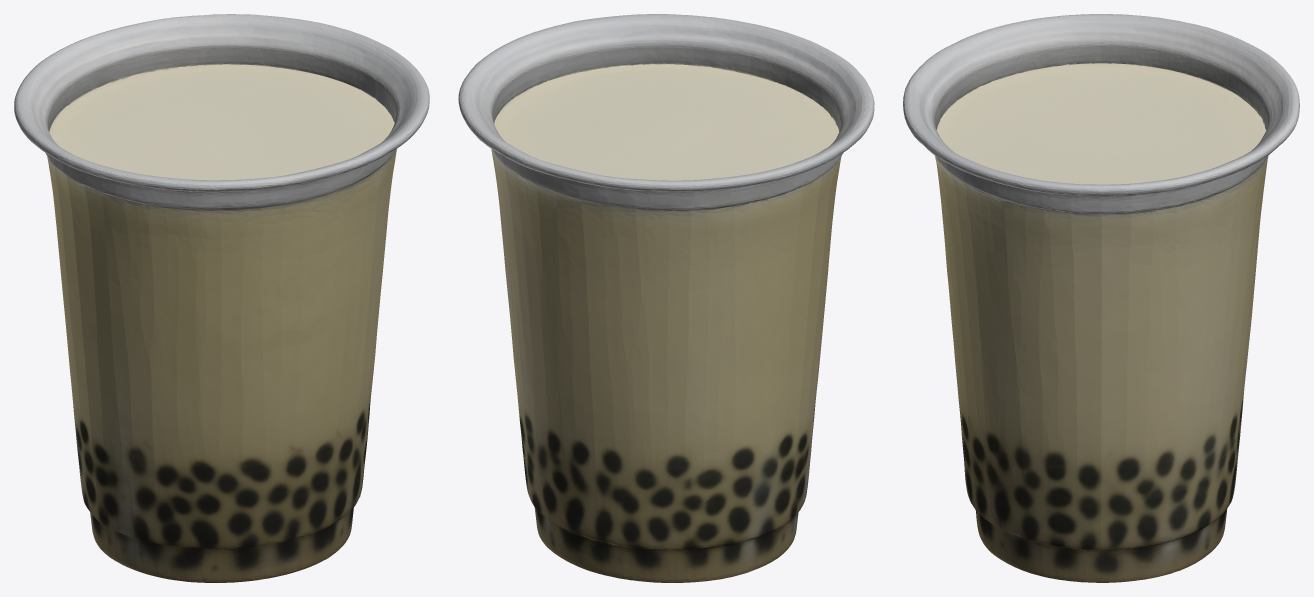
File: lycotrasua.fbx
3 renders of one model, left to right at view 1: azimuth 30°, elevation 25°; view 2: azimuth 150°, elevation 25°; view 3: azimuth 270°, elevation 25°, orthographic.
Parts seen in each view (by area): view 1: world; view 2: world; view 3: world.
Boxes of the visible parts, x1,y1,x2,y2 form: world: (14, 14, 429, 582); world: (458, 14, 874, 582); world: (903, 14, 1299, 582).
Size of the model in its own units: 0.8788 by 1 by 0.8391.
1 material, 1 textured.
